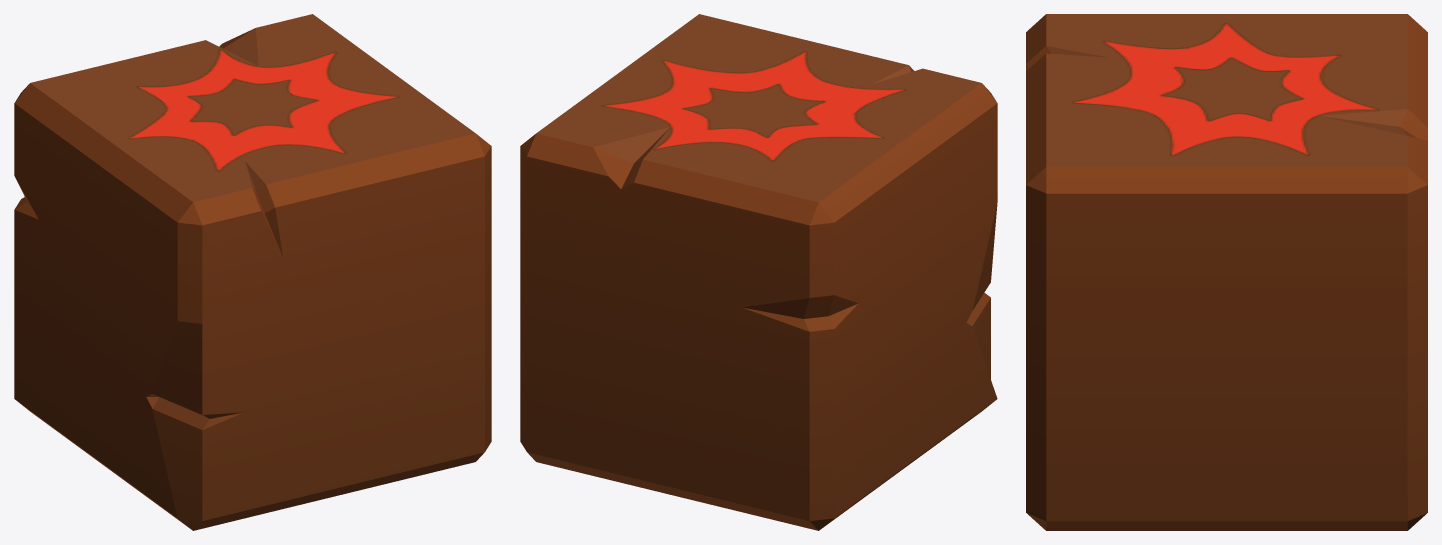
Rendered from Tile_Danger_Cracked_01.fbx.
3 renders of one model, left to right at view 1: azimuth 30°, elevation 25°; view 2: azimuth 150°, elevation 25°; view 3: azimuth 270°, elevation 25°, orthographic. The views are drawn at different scales.
Visible parts, largest first — view 1: Tile Merah Coak Danger; view 2: Tile Merah Coak Danger; view 3: Tile Merah Coak Danger.
Boxes of the visible parts, <box> form: Tile Merah Coak Danger: <box>14,14,491,530</box>; Tile Merah Coak Danger: <box>520,14,997,530</box>; Tile Merah Coak Danger: <box>1026,14,1427,530</box>.
Bounding box in the file's own units: 1 × 1 × 1.
1 material, 1 textured.
